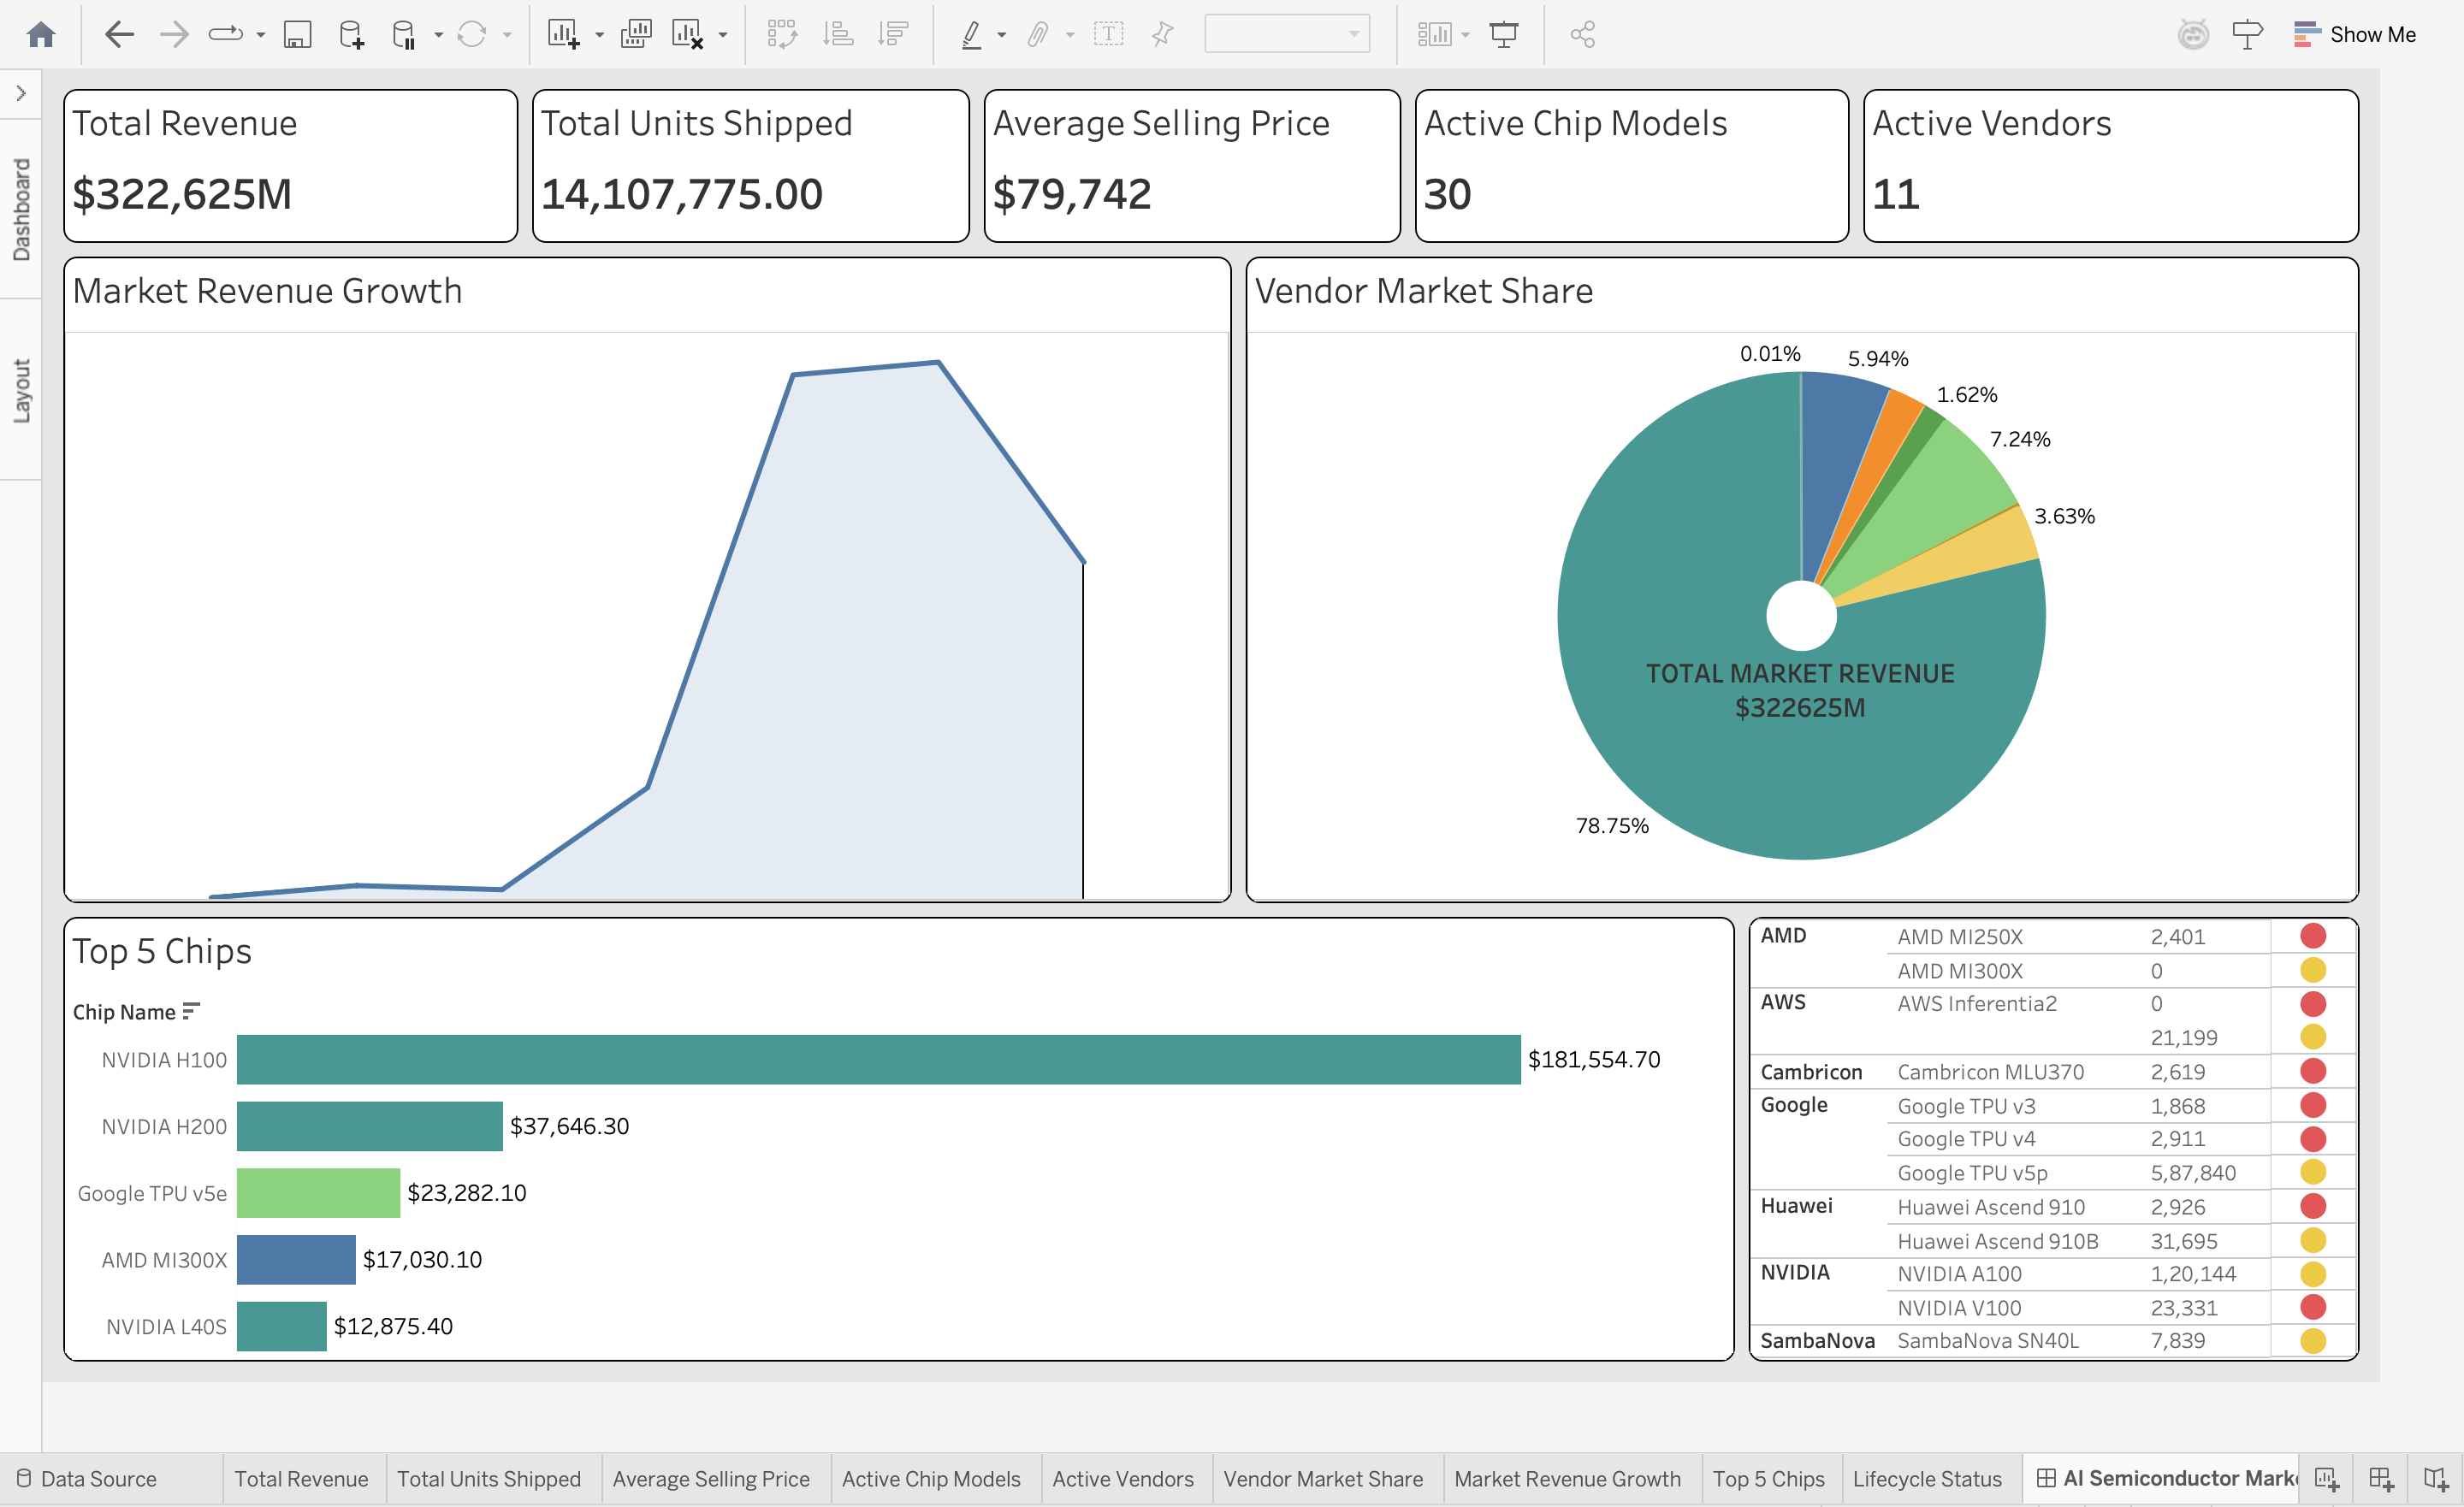

The dashboard page shown, as its layout file describes it:
{"tool":"tableau","page":{"name":"AI Semiconductor Market Dynamics","canvas":[1366,768],"ordinal":0},"visuals":[{"type":"worksheet","title":"Total Revenue","mark":"Automatic","box":[8,8,274,98]},{"type":"worksheet","title":"Total Units Shipped","mark":"Automatic","box":[282,8,264,98]},{"type":"worksheet","title":"Average Selling Price","mark":"Automatic","box":[546,8,252,98]},{"type":"worksheet","title":"Active Chip Models","mark":"Automatic","box":[798,8,262.5,98]},{"type":"worksheet","title":"Active Vendors","mark":"Automatic","box":[1060.5,8,297.5,98]},{"type":"worksheet","title":"Market Revenue Growth","mark":"Area","rows":["estimated_revenue_usd_m","estimated_revenue_usd_m"],"cols":["year"],"box":[8,106,691,386]},{"type":"worksheet","title":"Vendor Market Share","mark":"Pie","rows":["Calculation_0104408985837572","Calculation_0104408985862150"],"box":[699,106,659,386]},{"type":"worksheet","title":"Top 5 Chips","mark":"Automatic","rows":["chip_name"],"cols":["estimated_revenue_usd_m"],"box":[8,492,985,268]},{"type":"worksheet","title":"Lifecycle Status","mark":"Shape","rows":["vendor","chip_name","estimated_shipments_units"],"box":[993,492,365,268]}]}

Visuals, with their boxes in screenshot pixels (x1, y1, x2, y2):
"Total Revenue" worksheet: [39, 65, 510, 233]
"Total Units Shipped" worksheet: [510, 65, 962, 233]
"Average Selling Price" worksheet: [962, 65, 1395, 233]
"Active Chip Models" worksheet: [1395, 65, 1845, 233]
"Active Vendors" worksheet: [1845, 65, 2355, 233]
"Market Revenue Growth" worksheet (Area marks): [39, 233, 1225, 895]
"Vendor Market Share" worksheet (Pie marks): [1225, 233, 2355, 895]
"Top 5 Chips" worksheet: [39, 895, 1729, 1355]
"Lifecycle Status" worksheet (Shape marks): [1729, 895, 2355, 1355]
